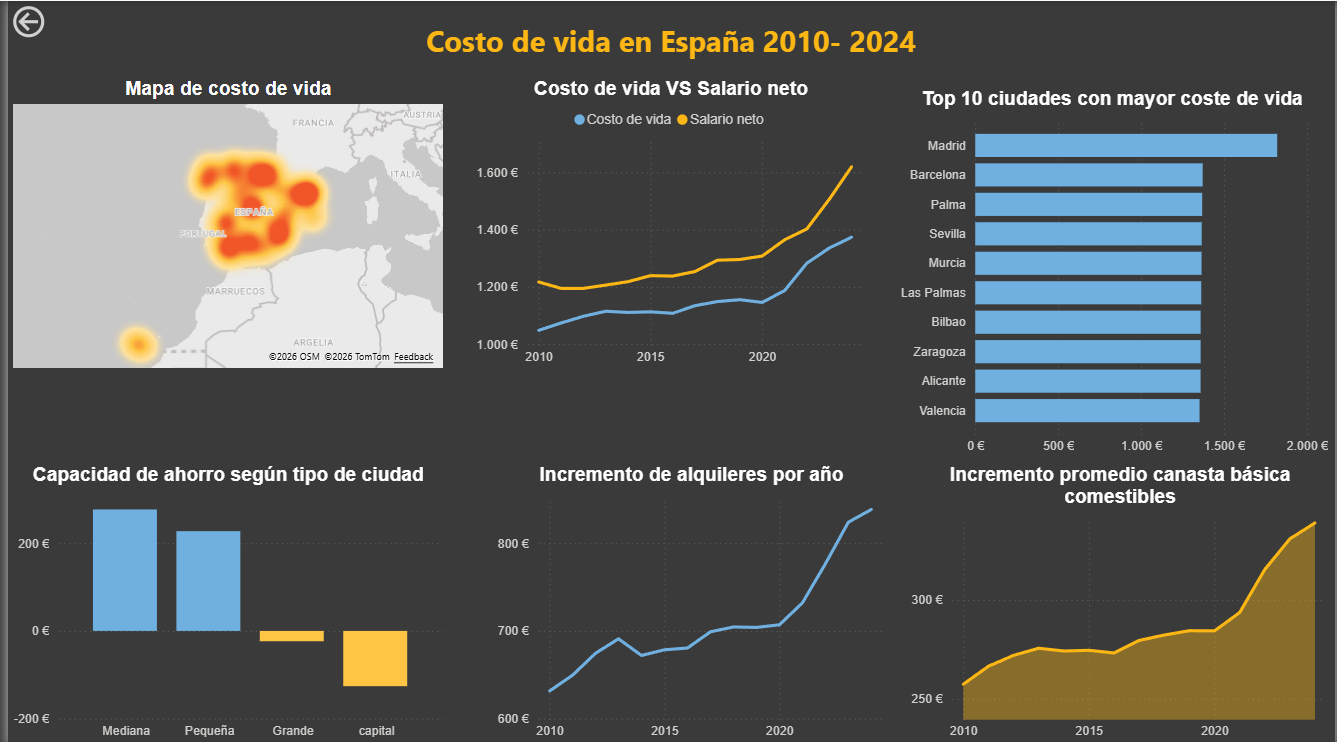

The page's visual inventory and layout, read from the dashboard file:
{"tool":"powerbi","page":{"name":"Página 1","canvas":[1280,720],"ordinal":0},"visuals":[{"type":"actionButton","box":[0,0,100,40],"z":1},{"type":"map","title":"Mapa de costo de vida","fields":{"Category":["Dim_Ubicacion.ciudad"],"Size":["Fact_CosteVida.costo_vida_mediana"]},"box":[0,74.1,425.4,285.4],"z":2},{"type":"shape","box":[0,0,1280,73.8],"z":4},{"type":"lineChart","title":"Costo de vida VS Salario neto","fields":{"Y":["Fact_CosteVida.costo_vida_mediana","Fact_CosteVida.salario_neto_mediana"],"Category":["Dim_Calendario.Año"]},"box":[446,74.1,387,285.4],"z":5},{"type":"columnChart","title":"Capacidad de ahorro según tipo de ciudad","fields":{"Y":["Fact_CosteVida.Capacidad_Ahorro"],"Category":["Dim_Ubicacion.tipo_ciudad"]},"box":[0,446,425.4,274.4],"z":6},{"type":"clusteredBarChart","title":"Top 10 ciudades con mayor coste de vida","fields":{"Y":["Avg(Fact_CosteVida.costo_persona)"],"Category":["Dim_Ubicacion.ciudad"]},"box":[852.1,83.7,428.1,362.3],"z":7},{"type":"lineChart","title":"Incremento de alquileres por año","fields":{"Category":["Fact_CosteVida.anio"],"Y":["Median(Fact_CosteVida.alquiler_1hab_centro)"]},"box":[466.6,446,385.6,274.4],"z":8},{"type":"areaChart","title":"Incremento promedio canasta básica comestibles","fields":{"Y":["Avg(Fact_CosteVida.compra_comida_mensual)"],"Category":["Fact_CosteVida.anio"]},"box":[865.9,446,414.4,274.4],"z":9}]}

Visuals, with their boxes in screenshot pixels (x1, y1, x2, y2), scaled from the page's 1280x720 canvas onto the 1337x742 screenshot:
actionButton: x1=0 y1=0 x2=104 y2=41
"Mapa de costo de vida" map: x1=0 y1=76 x2=444 y2=370
shape: x1=0 y1=0 x2=1336 y2=76
"Costo de vida VS Salario neto" lineChart: x1=466 y1=76 x2=870 y2=370
"Capacidad de ahorro según tipo de ciudad" columnChart: x1=0 y1=460 x2=444 y2=741
"Top 10 ciudades con mayor coste de vida" clusteredBarChart: x1=890 y1=86 x2=1336 y2=460
"Incremento de alquileres por año" lineChart: x1=487 y1=460 x2=890 y2=741
"Incremento promedio canasta básica comestibles" areaChart: x1=904 y1=460 x2=1336 y2=741
